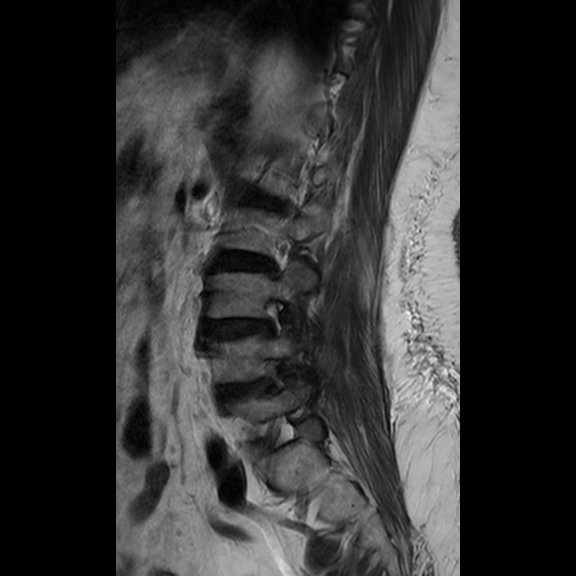LFS2: (252, 282, 293, 345)
LFS3: (254, 350, 295, 413)
